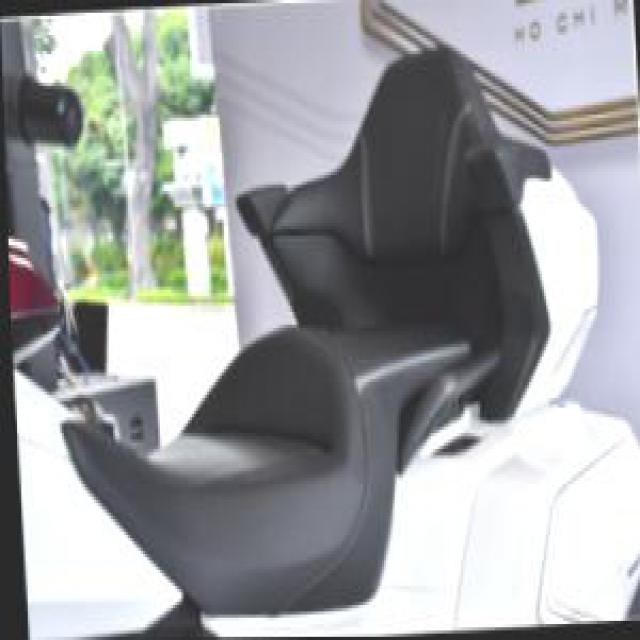Gold Wing: (0, 19, 639, 639)
